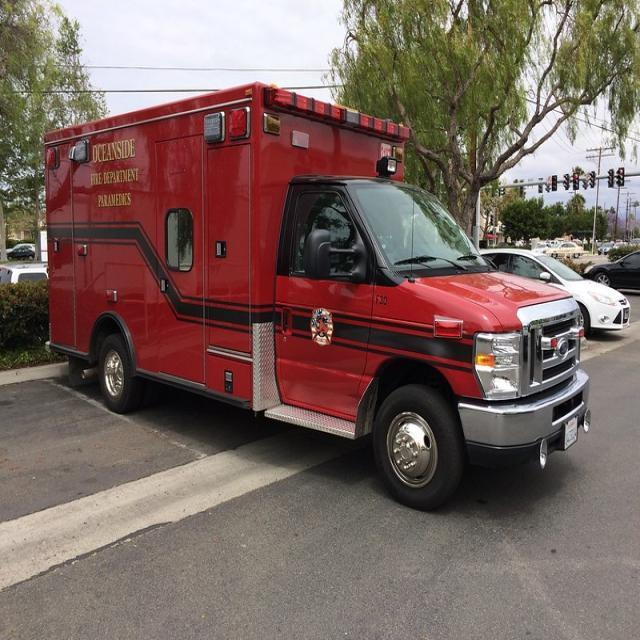emergency: (258, 81, 590, 511)
